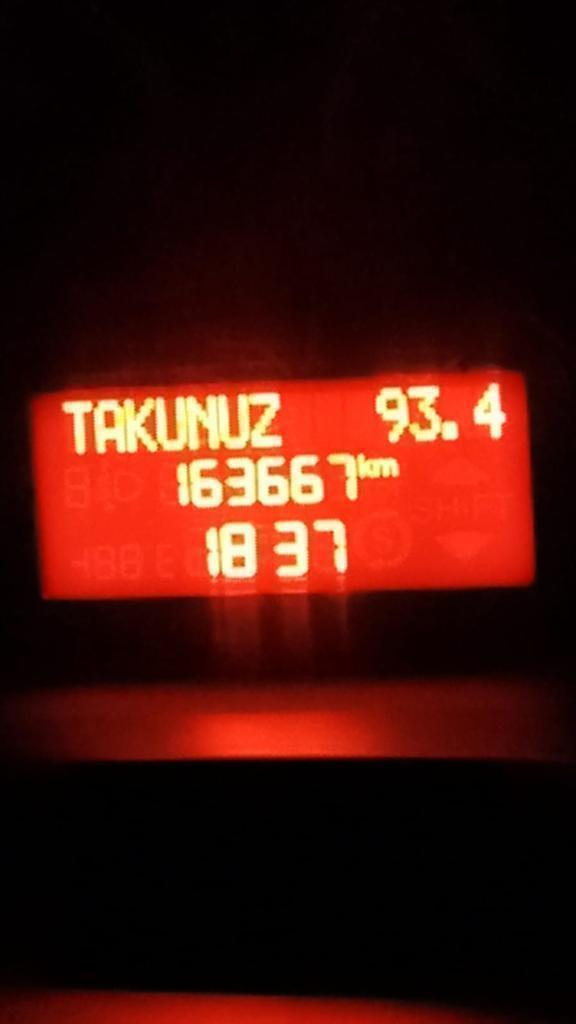,: (442, 417, 461, 441)
1: (204, 523, 218, 579), (175, 459, 188, 508)
3: (272, 517, 309, 580), (407, 382, 442, 442), (224, 455, 257, 508)
4: (469, 381, 509, 440)
6: (290, 453, 325, 505), (189, 457, 224, 509), (257, 455, 289, 506)
7: (312, 516, 349, 575), (326, 450, 357, 502)
8: (220, 521, 258, 579)
9: (373, 384, 407, 446)
X: (59, 396, 91, 459), (217, 390, 250, 449), (250, 390, 283, 448), (94, 397, 125, 457), (188, 393, 218, 453), (126, 395, 155, 454), (156, 395, 186, 451), (373, 455, 400, 480), (358, 451, 373, 481)
odometer: (24, 363, 538, 606)
